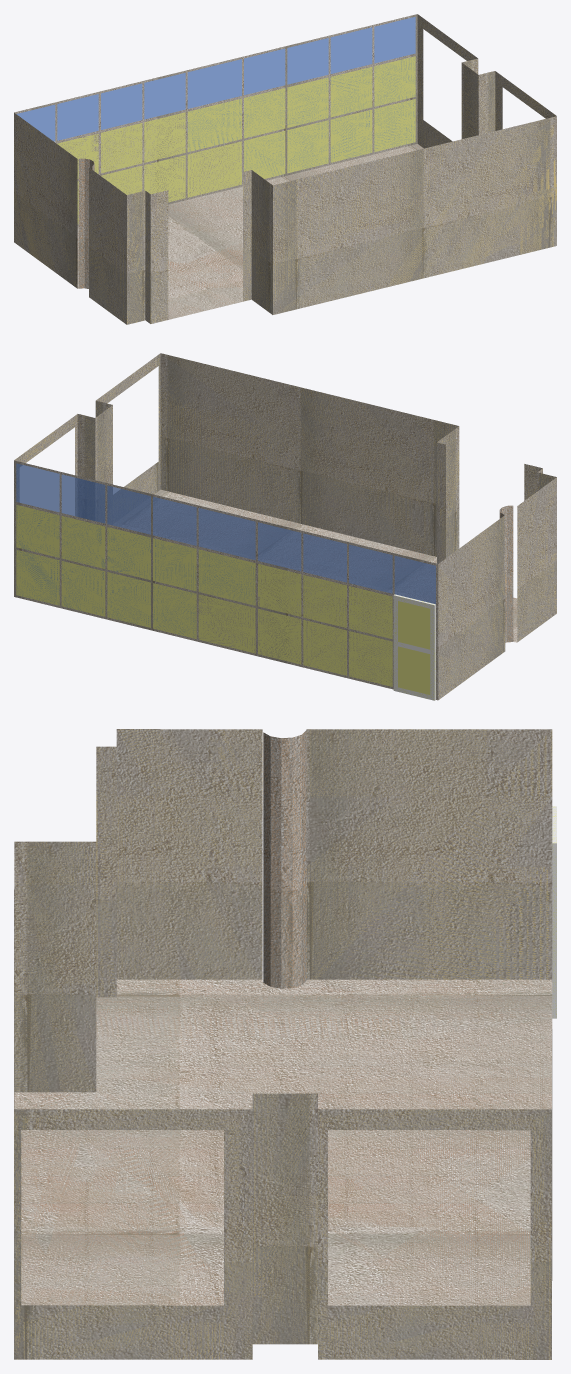
File: DES011.obj
3 renders of one model, top to bottom at view 1: azimuth 30°, elevation 25°; view 2: azimuth 150°, elevation 25°; view 3: azimuth 270°, elevation 25°, orthographic. The views are drawn at different scales.
Visible parts, largest first — view 1: Mesh5 DES011 Model; view 2: Mesh5 DES011 Model, Mesh1 puerta4_1 DES011 Model; view 3: Mesh5 DES011 Model, Mesh1 puerta4_1 DES011 Model.
Boxes of the visible parts, x1=… form: Mesh5 DES011 Model: x1=14, y1=14, x2=556, y2=324; Mesh5 DES011 Model: x1=14, y1=353, x2=556, y2=700; Mesh1 puerta4_1 DES011 Model: x1=393, y1=594, x2=435, y2=700; Mesh5 DES011 Model: x1=14, y1=729, x2=552, y2=1359; Mesh1 puerta4_1 DES011 Model: x1=552, y1=806, x2=556, y2=1018.
Bounding box in the file's own units: 9.76 × 3 × 5.89.
7 materials, 2 textured.
